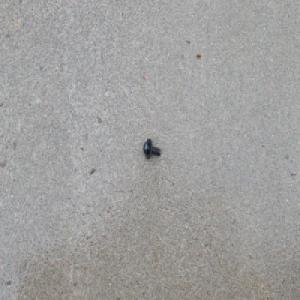BoltWasher: (142, 138, 160, 161)
